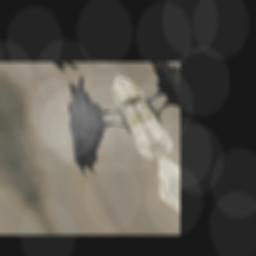Crow: (37, 68, 147, 177)
